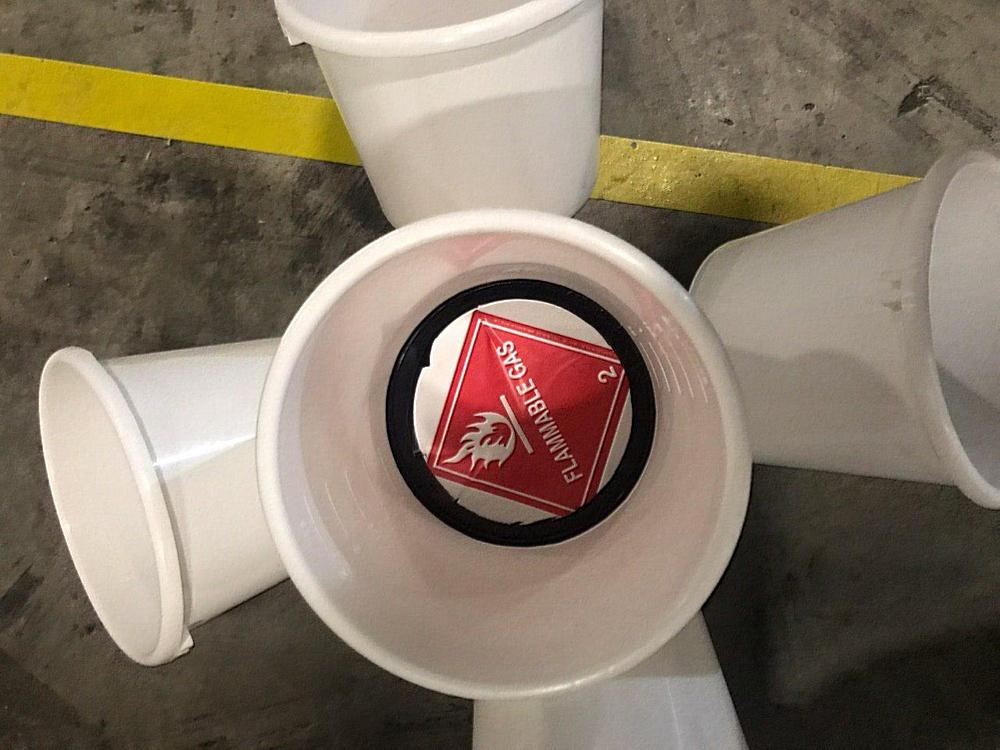flammable: (426, 313, 634, 520)
